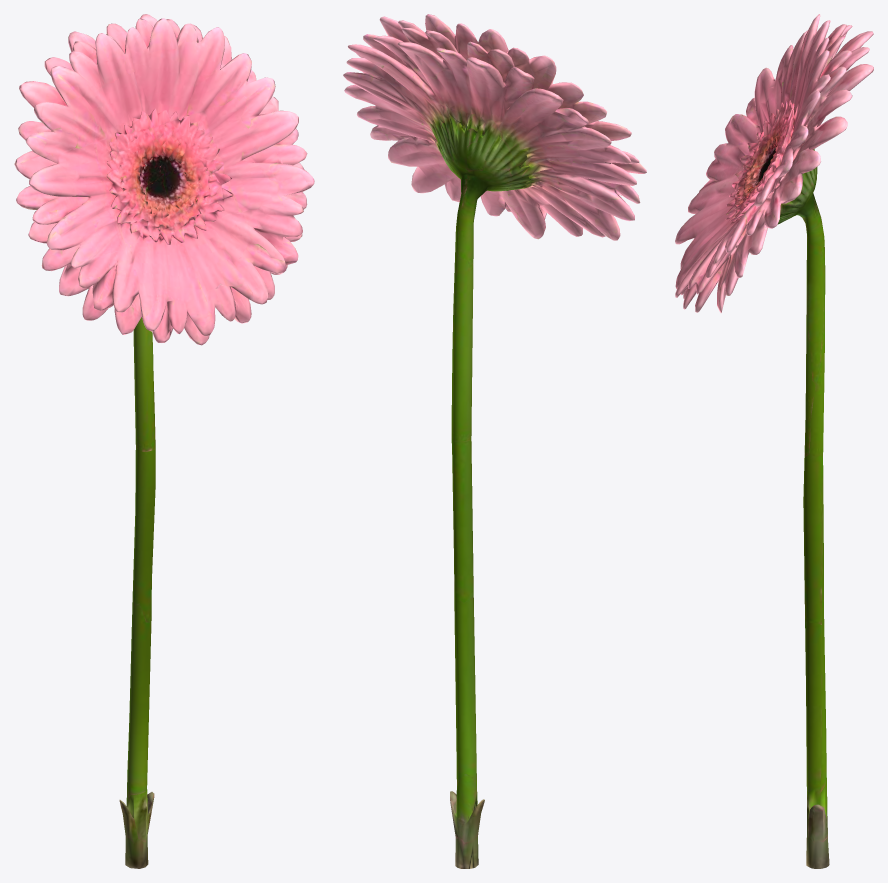
The model's file is markaret_pink.glb.
The picture shows the model from 3 angles, left to right: view 1: azimuth 30°, elevation 25°; view 2: azimuth 150°, elevation 25°; view 3: azimuth 270°, elevation 25°; orthographic projection. The views are drawn at different scales.
Size of the model in its own units: 0.6712 by 1.9 by 0.413.
1 material, 1 textured.
